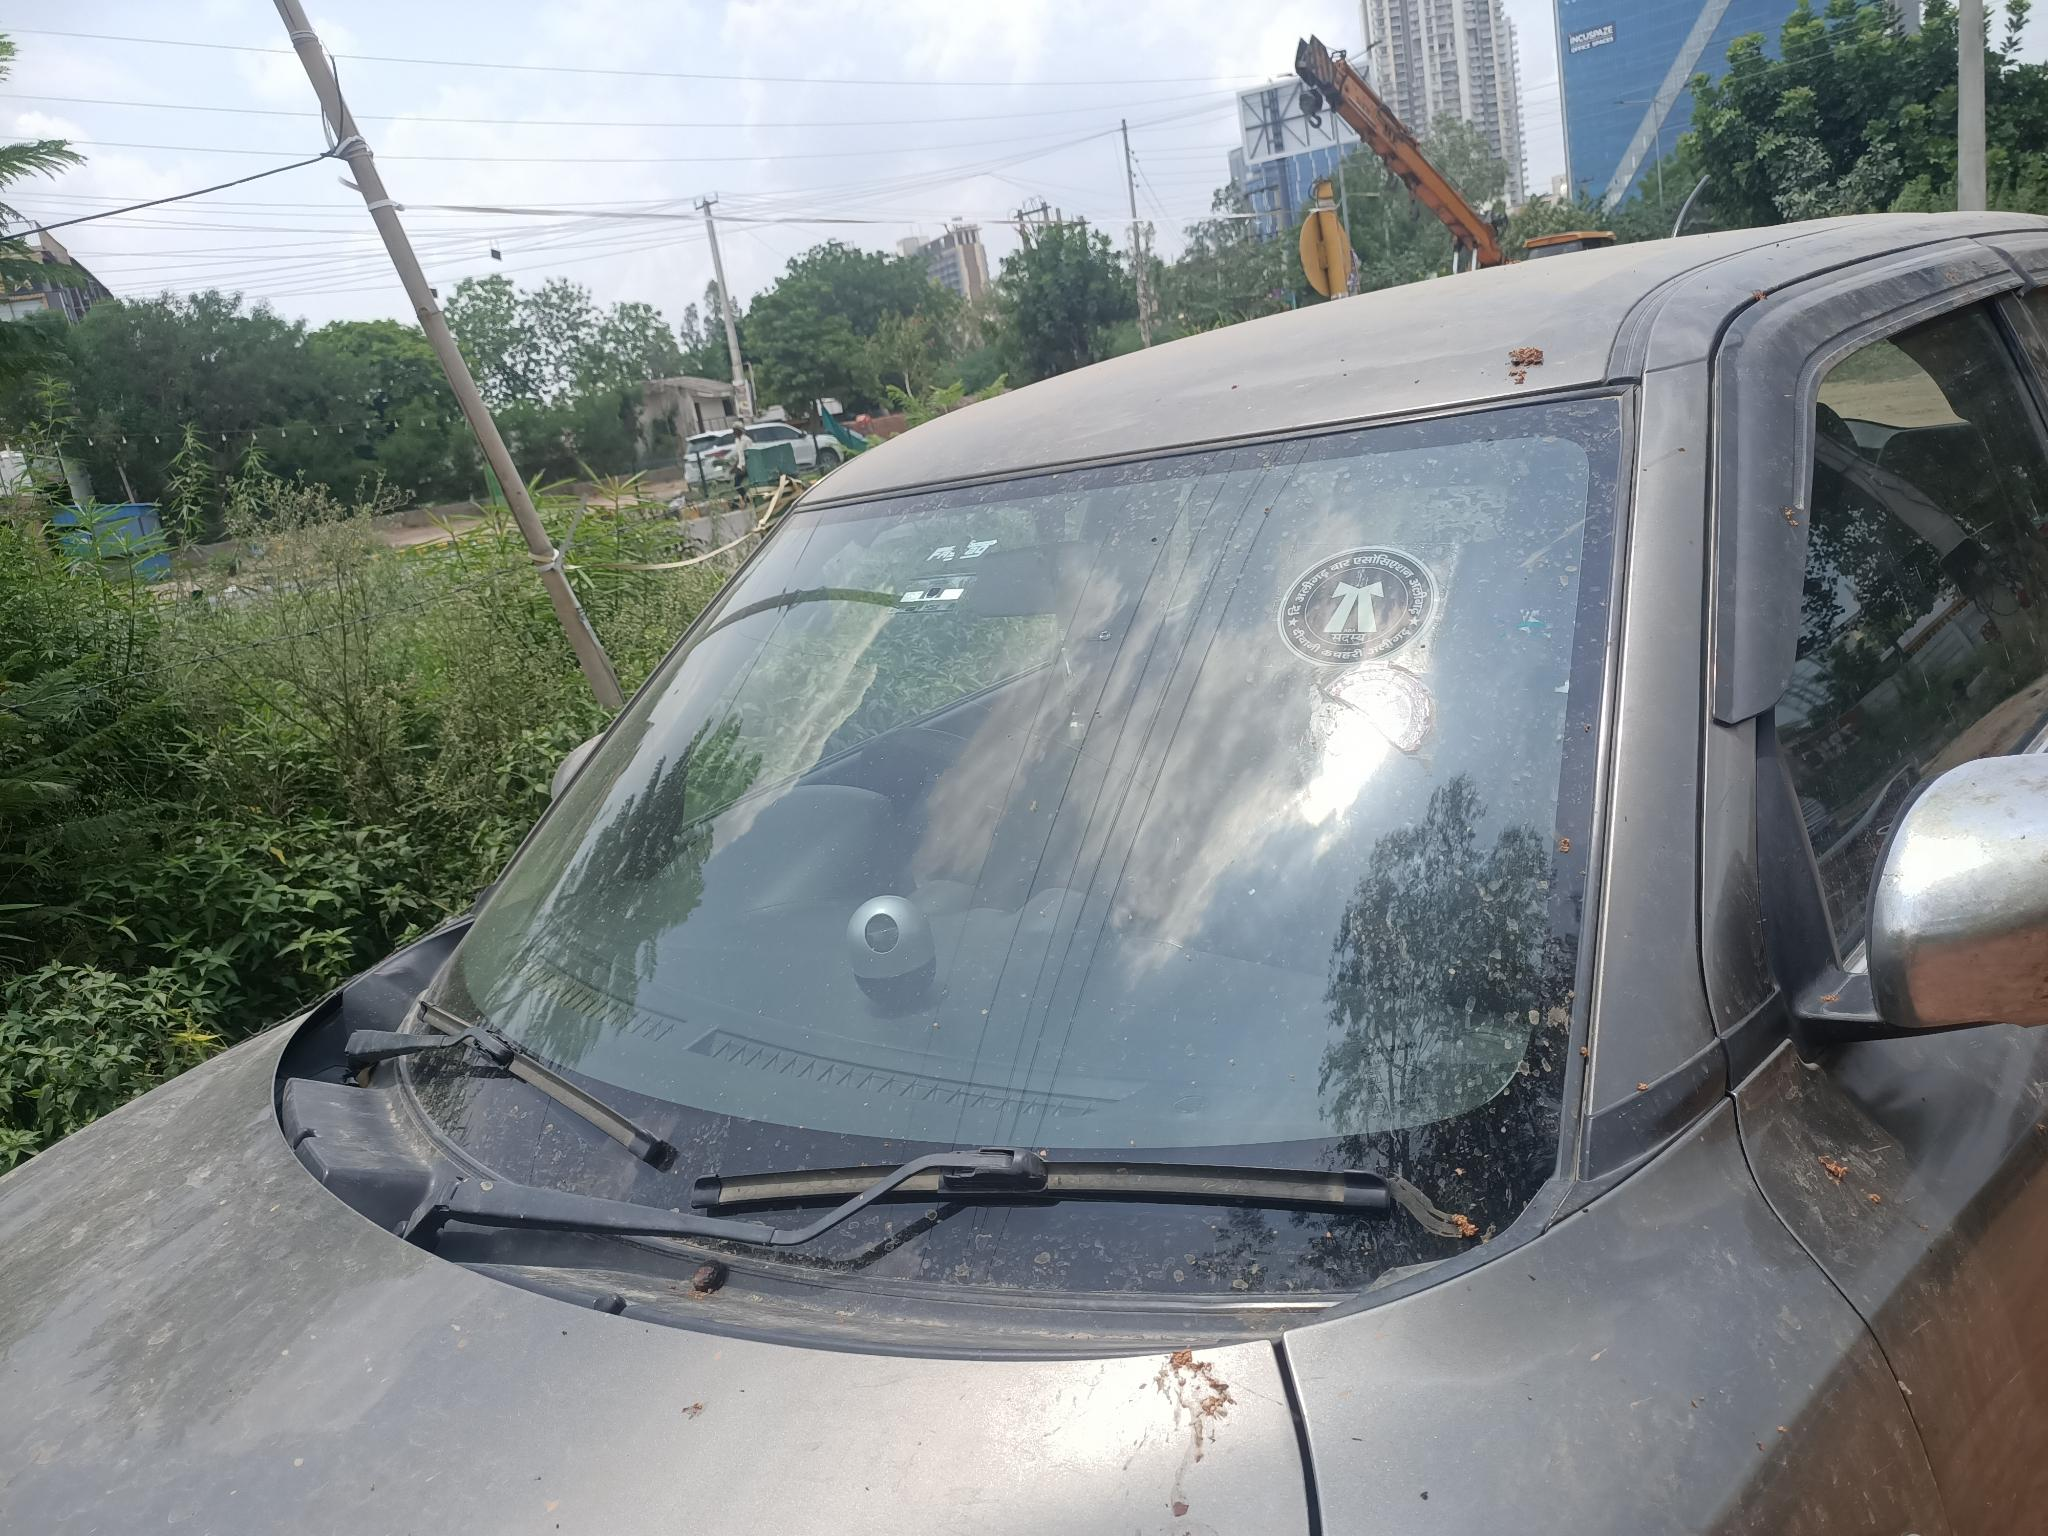FastTag: (874, 574, 984, 624)
not a FastTag: (1267, 545, 1451, 667)
